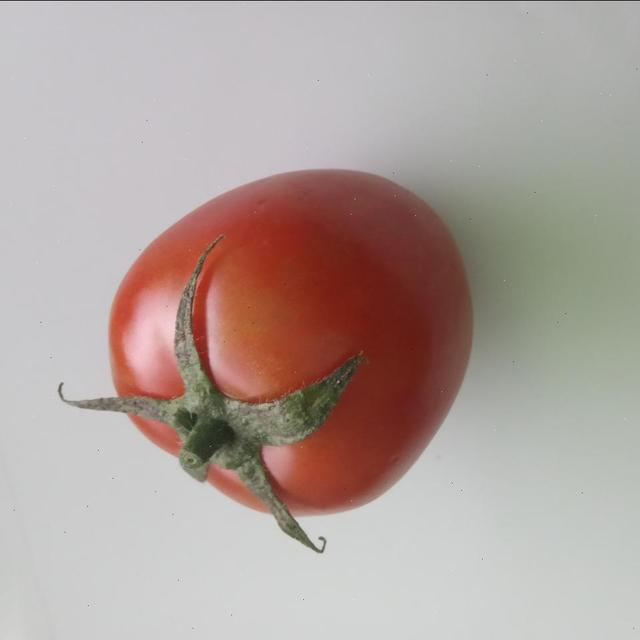Healthy Fruit: (36, 110, 319, 368)
